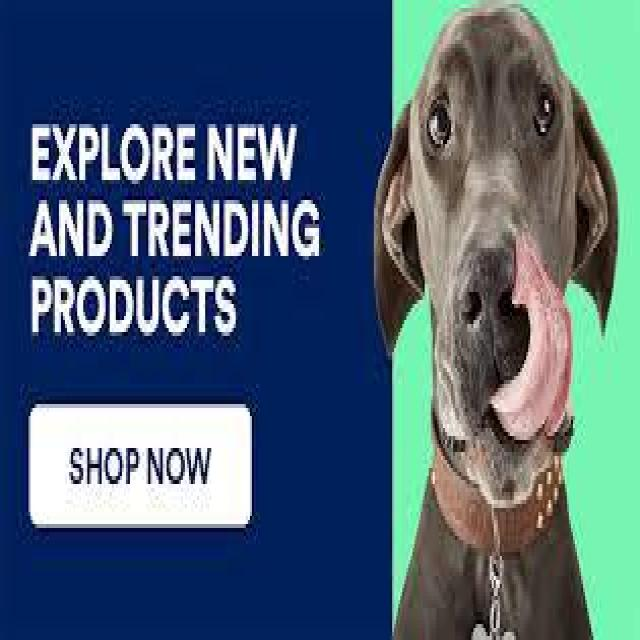Dog: (348, 1, 632, 542)
